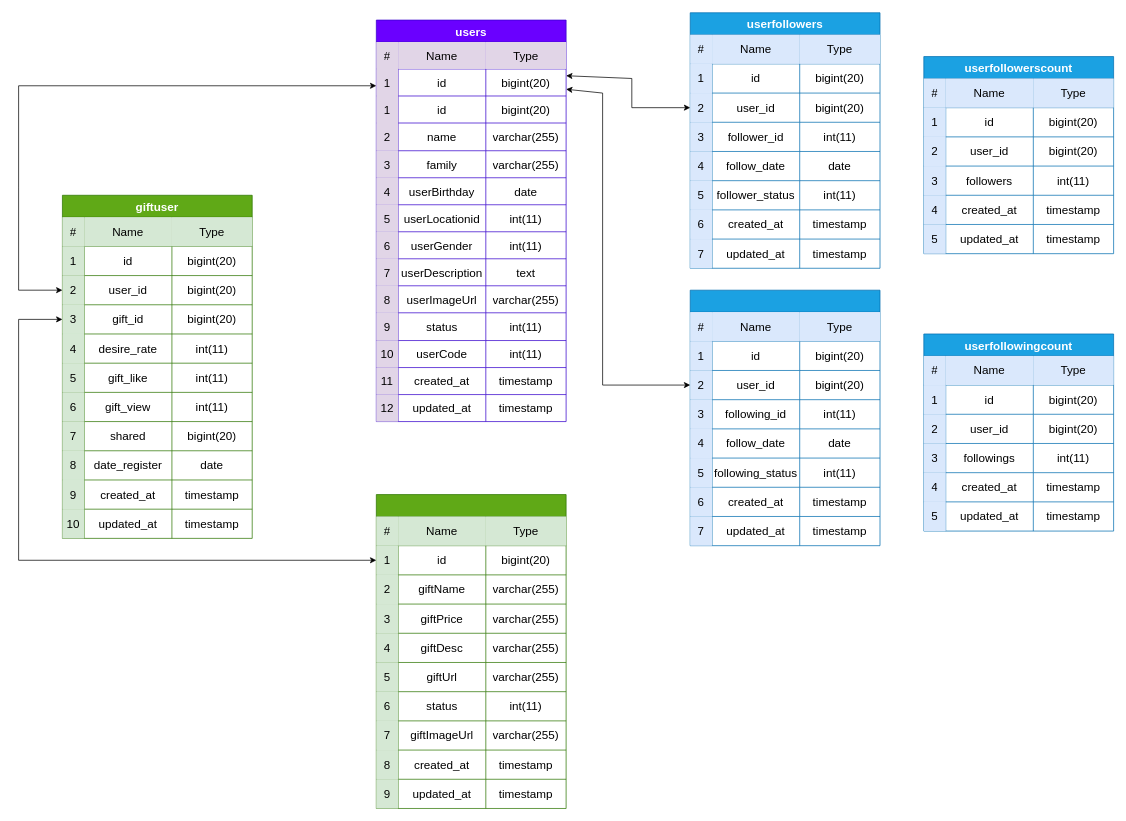
Some shapes in this 1126 by 821 pixel diagram are drawn without their labels. Here are the shapes that lost their labels. From the top down, the box of each, then its label:
(689, 289, 880, 546): userfollowings
(376, 494, 566, 808): gifts
